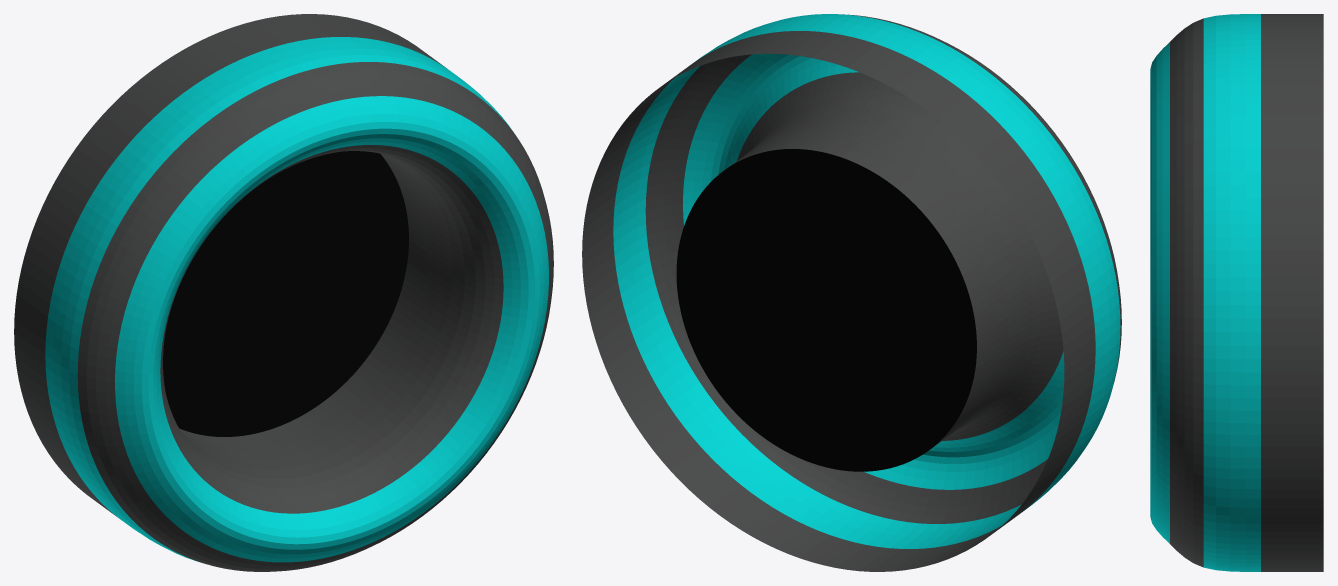
Rendered from Goal.fbx.
3 views of the same model, side by side, from view 1: azimuth 30°, elevation 25°; view 2: azimuth 150°, elevation 25°; view 3: azimuth 270°, elevation 25° (orthographic).
Parts seen in each view (by area): view 1: Goal; view 2: Goal; view 3: Goal.
Boxes of the visible parts, x1,y1,x2,y2 form: Goal: (14,14,553,571); Goal: (582,14,1121,571); Goal: (1150,14,1323,571).
Size of the model in its own units: 239 by 239 by 74.13.
